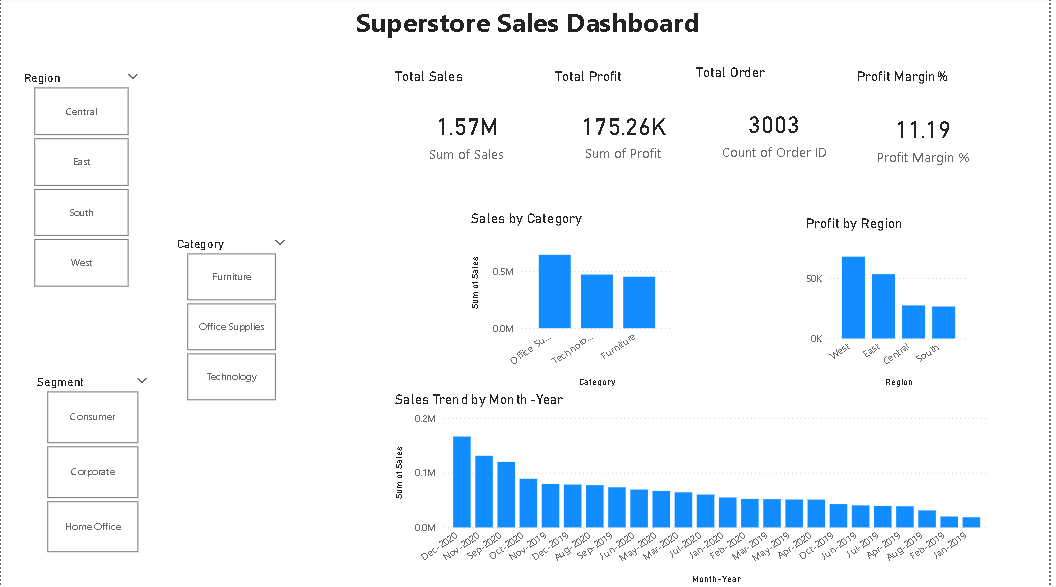

The page's visual inventory and layout, read from the dashboard file:
{"tool":"powerbi","page":{"name":"Executive OverView","canvas":[1280,720],"ordinal":0},"visuals":[{"type":"card","title":"Total Sales","fields":{"Values":["Sum(Superstore_CLeaned.Sales)"]},"box":[476.2,86.5,184.4,141.8],"z":0},{"type":"card","title":"Total Profit","fields":{"Values":["Sum(Superstore_CLeaned.Profit)"]},"box":[671.7,86.5,176.2,140.4],"z":1000},{"type":"card","title":"Total Order","fields":{"Values":["Count(Superstore_CLeaned.Order ID)"]},"box":[843.7,81.2,200.9,147.3],"z":2000},{"type":"card","title":"Profit Margin%","fields":{"Values":["Superstore_CLeaned.Profit Margin %"]},"box":[1039.1,86.7,172,148.6],"z":3000},{"type":"clusteredColumnChart","title":"Sales by Category","fields":{"Category":["Superstore_CLeaned.Category"],"Y":["Sum(Superstore_CLeaned.Sales)"]},"box":[568.4,260.1,257.4,220.2],"z":4000},{"type":"clusteredColumnChart","title":"Profit by Region","fields":{"Category":["Superstore_CLeaned.Region"],"Y":["Sum(Superstore_CLeaned.Profit)"]},"box":[977.2,265.6,207.8,214.7],"z":5000},{"type":"clusteredColumnChart","title":"Sales Trend by Month-Year","fields":{"Category":["Superstore_CLeaned.Month-Year"],"Y":["Sum(Superstore_CLeaned.Sales)"]},"box":[476.2,480.3,735,239.5],"z":6000},{"type":"slicer","fields":{"Values":["Superstore_CLeaned.Region"]},"box":[15.1,85.3,165.2,275.3],"z":7000},{"type":"slicer","fields":{"Values":["Superstore_CLeaned.Category"]},"box":[200.9,287.7,158.3,210.6],"z":8000},{"type":"slicer","fields":{"Values":["Superstore_CLeaned.Segment"]},"box":[30.3,456.9,161,228.5],"z":9000},{"type":"textbox","box":[5.5,1.4,1274.5,64.7],"z":10000}]}

Visuals, with their boxes in screenshot pixels (x1, y1, x2, y2), scaled from the page's 1280x720 canvas onto the 1056x587 screenshot:
"Total Sales" card: locate(393, 71, 545, 186)
"Total Profit" card: locate(554, 71, 700, 185)
"Total Order" card: locate(696, 66, 862, 186)
"Profit Margin%" card: locate(857, 71, 999, 192)
"Sales by Category" clusteredColumnChart: locate(469, 212, 681, 392)
"Profit by Region" clusteredColumnChart: locate(806, 217, 978, 392)
"Sales Trend by Month-Year" clusteredColumnChart: locate(393, 392, 999, 586)
slicer - Superstore_CLeaned.Region: locate(12, 70, 149, 294)
slicer - Superstore_CLeaned.Category: locate(166, 235, 296, 406)
slicer - Superstore_CLeaned.Segment: locate(25, 373, 158, 559)
textbox: locate(5, 1, 1055, 54)
